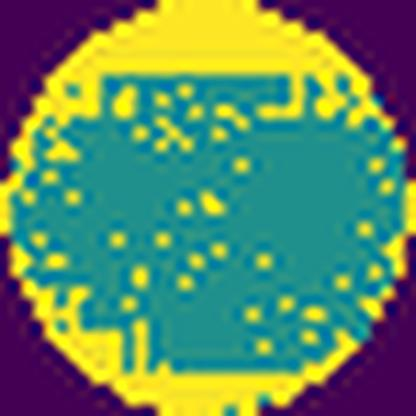Edge-Loc: (0, 0, 393, 236), (0, 242, 358, 416), (378, 174, 415, 289)
